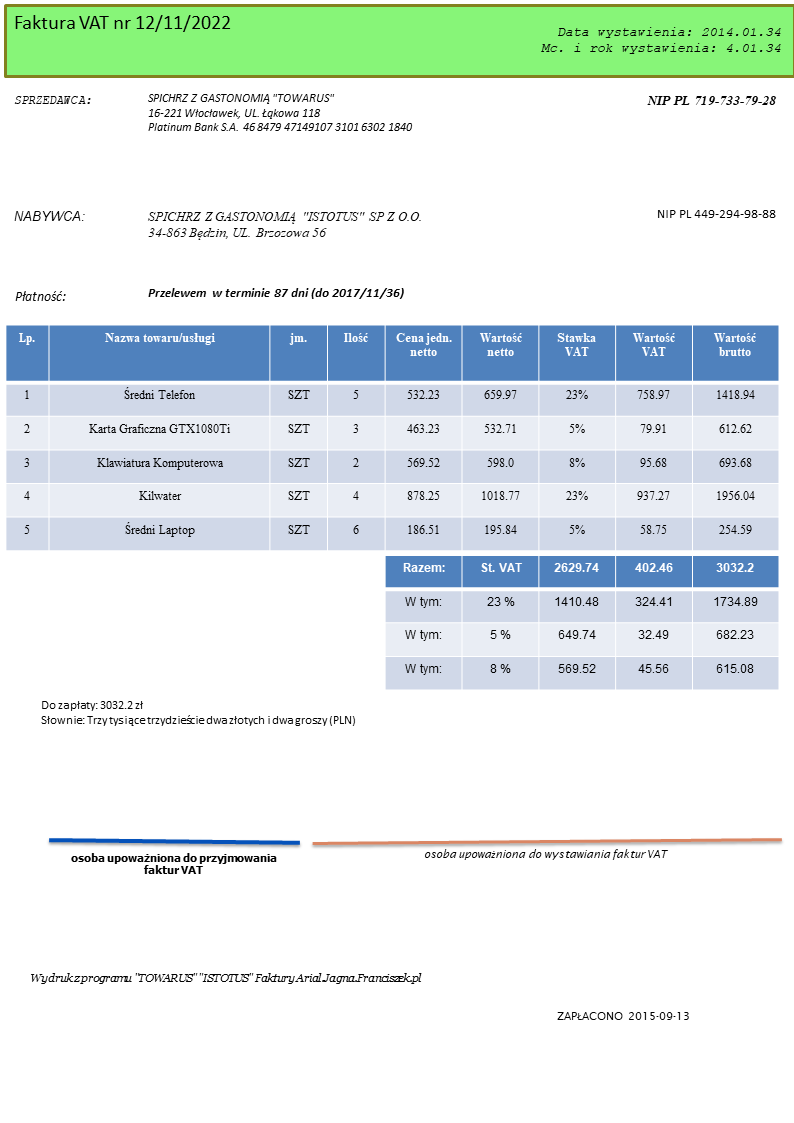Table: (4, 323, 779, 553), (382, 554, 780, 691)
TextBox: (145, 88, 415, 136), (39, 697, 357, 730), (144, 207, 424, 241), (536, 22, 784, 57), (29, 968, 424, 988), (68, 849, 279, 877), (12, 12, 236, 34), (422, 846, 671, 865), (145, 284, 406, 302), (553, 1007, 691, 1026), (644, 93, 778, 110), (654, 206, 779, 221), (12, 90, 92, 110), (11, 206, 86, 227), (13, 288, 67, 305)
